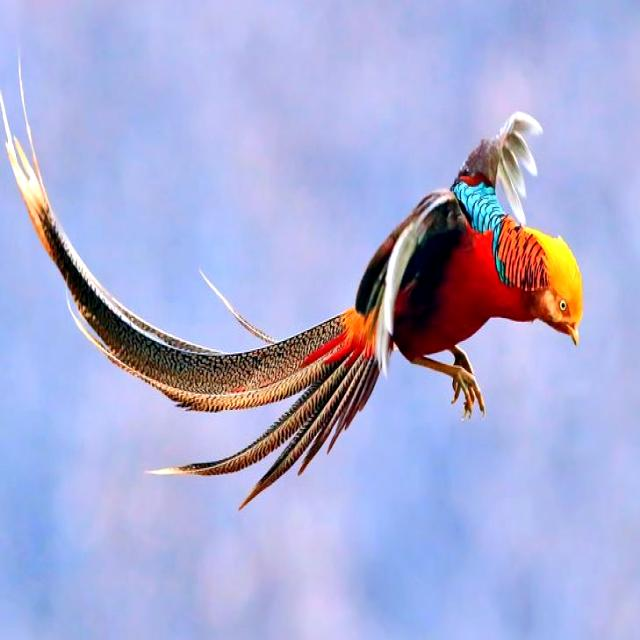Chrysolophus pictus feather: (5, 127, 378, 506)
